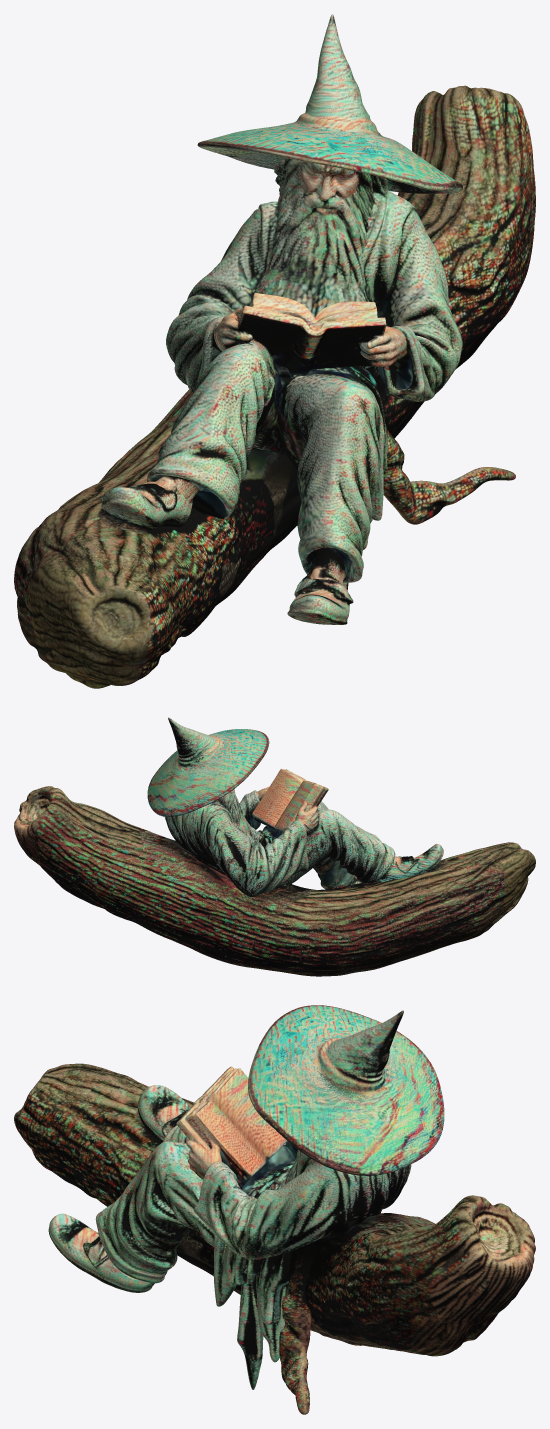
File: wizard.glb
The picture shows the model from 3 angles, top to bottom: view 1: azimuth 30°, elevation 25°; view 2: azimuth 150°, elevation 25°; view 3: azimuth 270°, elevation 25°; orthographic projection. The views are drawn at different scales.
Size of the model in its own units: 1.9 by 1.3 by 1.49.
1 material, 1 textured.
